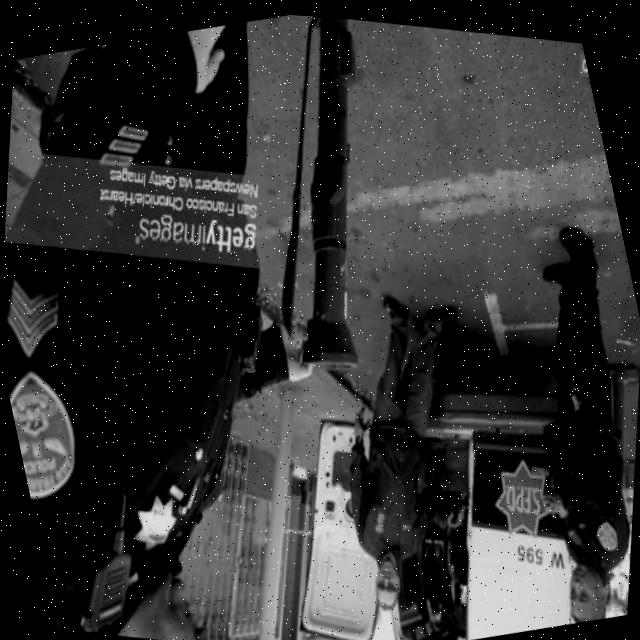rocket: (216, 9, 447, 395)
